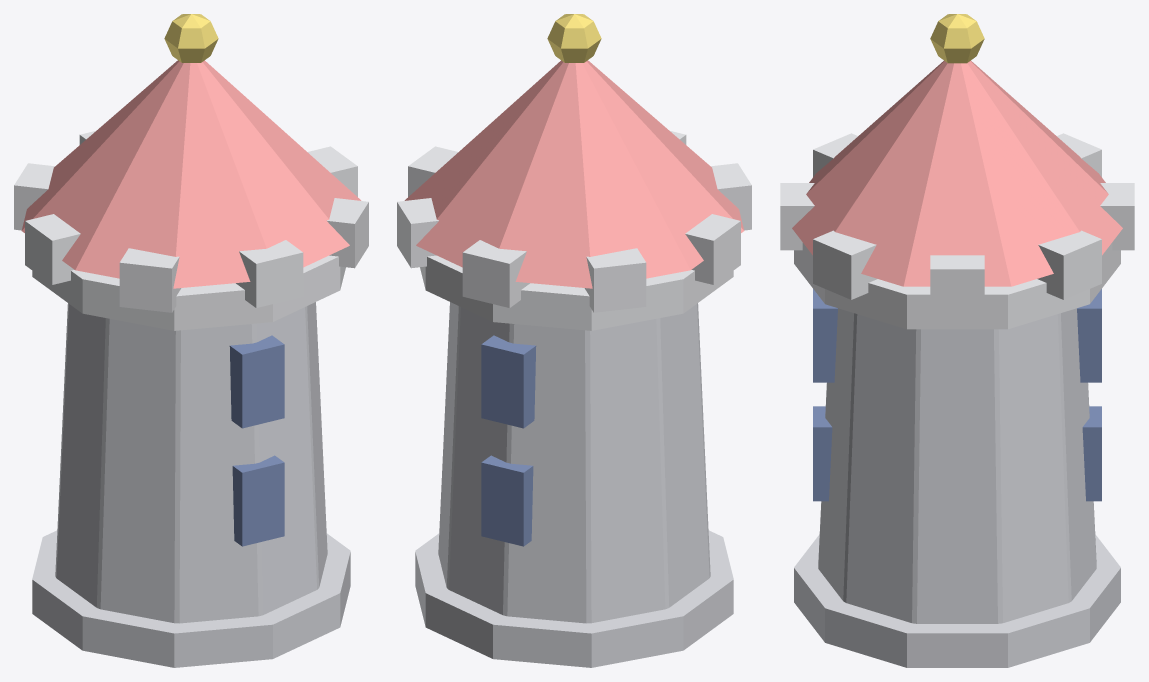
Rendered from CF_Tower.fbx.
3 renders of one model, left to right at view 1: azimuth 30°, elevation 25°; view 2: azimuth 150°, elevation 25°; view 3: azimuth 270°, elevation 25°, orthographic.
Parts seen in each view (by area): view 1: CF_Tower_Stone, CF_Tower_Roof, CF_Tower_StoneLight, CF_Tower_Window, CF_Tower_Trim; view 2: CF_Tower_Stone, CF_Tower_Roof, CF_Tower_StoneLight, CF_Tower_Window, CF_Tower_Trim; view 3: CF_Tower_Stone, CF_Tower_Roof, CF_Tower_StoneLight, CF_Tower_Window, CF_Tower_Trim.
Boxes of the visible parts, x1,y1,x2,y2 form: CF_Tower_Stone: (32,302,350,667); CF_Tower_Roof: (21,60,361,288); CF_Tower_StoneLight: (14,131,368,330); CF_Tower_Window: (229,335,284,546); CF_Tower_Trim: (164,14,218,62); CF_Tower_Stone: (415,302,733,667); CF_Tower_Roof: (404,60,744,288); CF_Tower_StoneLight: (397,131,751,330); CF_Tower_Window: (481,335,536,546); CF_Tower_Trim: (547,14,601,62); CF_Tower_Stone: (794,308,1120,667); CF_Tower_Roof: (792,60,1122,286); CF_Tower_StoneLight: (780,133,1134,329); CF_Tower_Window: (813,289,1101,501); CF_Tower_Trim: (930,14,984,63).
Bounding box in the file's own units: 6.5 × 11.9 × 6.5.
